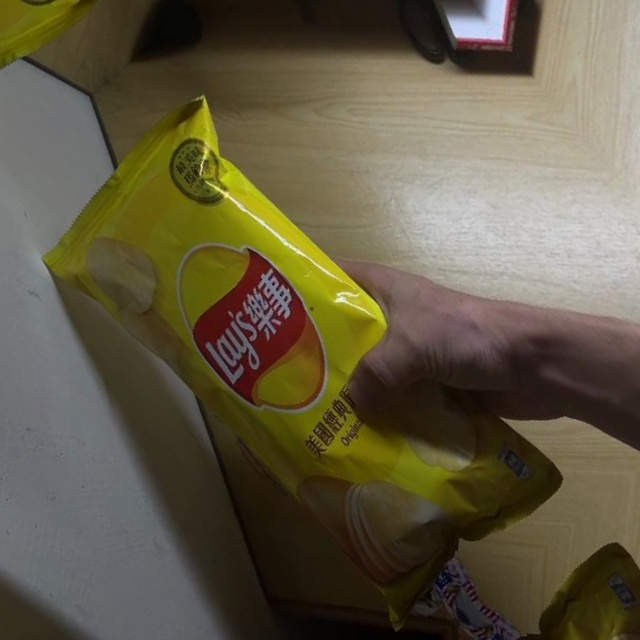Lay-s-original: (23, 71, 569, 640)
